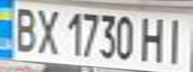0: (115, 12, 139, 62)
1: (60, 8, 84, 57)
3: (97, 11, 118, 60)
7: (78, 9, 100, 58)
B: (9, 3, 39, 54)
H: (136, 13, 169, 64)
I: (160, 15, 193, 65)
X: (33, 4, 60, 55)
